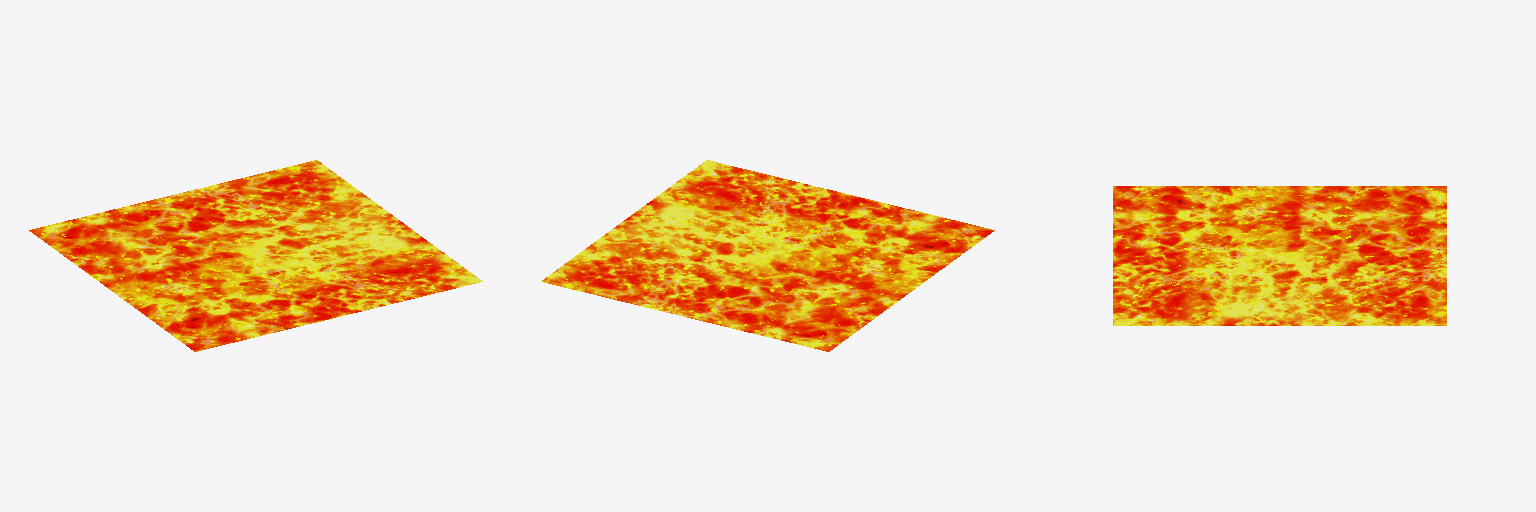
3 renders of one model, left to right at view 1: azimuth 30°, elevation 25°; view 2: azimuth 150°, elevation 25°; view 3: azimuth 270°, elevation 25°, orthographic.
Visible parts, largest first — view 1: Plane; view 2: Plane; view 3: Plane.
Part boxes in pixels (x1,y1,x2,y2): Plane: (29,160,482,351); Plane: (541,160,994,351); Plane: (1113,186,1446,325).
Size of the model in its own units: 2 by 0 by 2.
1 materials, 1 textured.